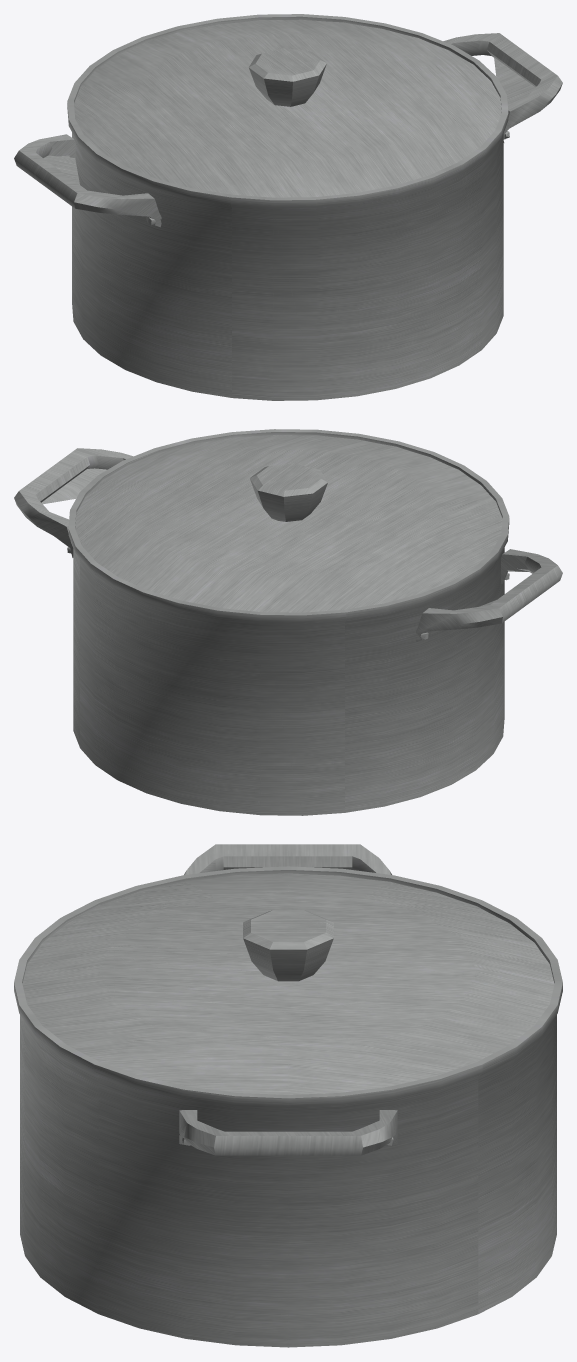
The model's file is cooking pot.fbx.
The picture shows the model from 3 angles, top to bottom: view 1: azimuth 30°, elevation 25°; view 2: azimuth 150°, elevation 25°; view 3: azimuth 270°, elevation 25°; orthographic projection. The views are drawn at different scales.
Visible parts, largest first — view 1: Cylinder, Cylinder.001; view 2: Cylinder, Cylinder.001; view 3: Cylinder, Cylinder.001.
Part boxes in pixels (<box>): Cylinder: <box>14,14,562,400</box>; Cylinder.001: <box>74,19,501,197</box>; Cylinder: <box>14,429,562,815</box>; Cylinder.001: <box>75,435,502,612</box>; Cylinder: <box>14,844,562,1347</box>; Cylinder.001: <box>22,873,554,1094</box>.
Size of the model in its own units: 261 by 126 by 204.
Materials: 1 (1 with a texture image).
